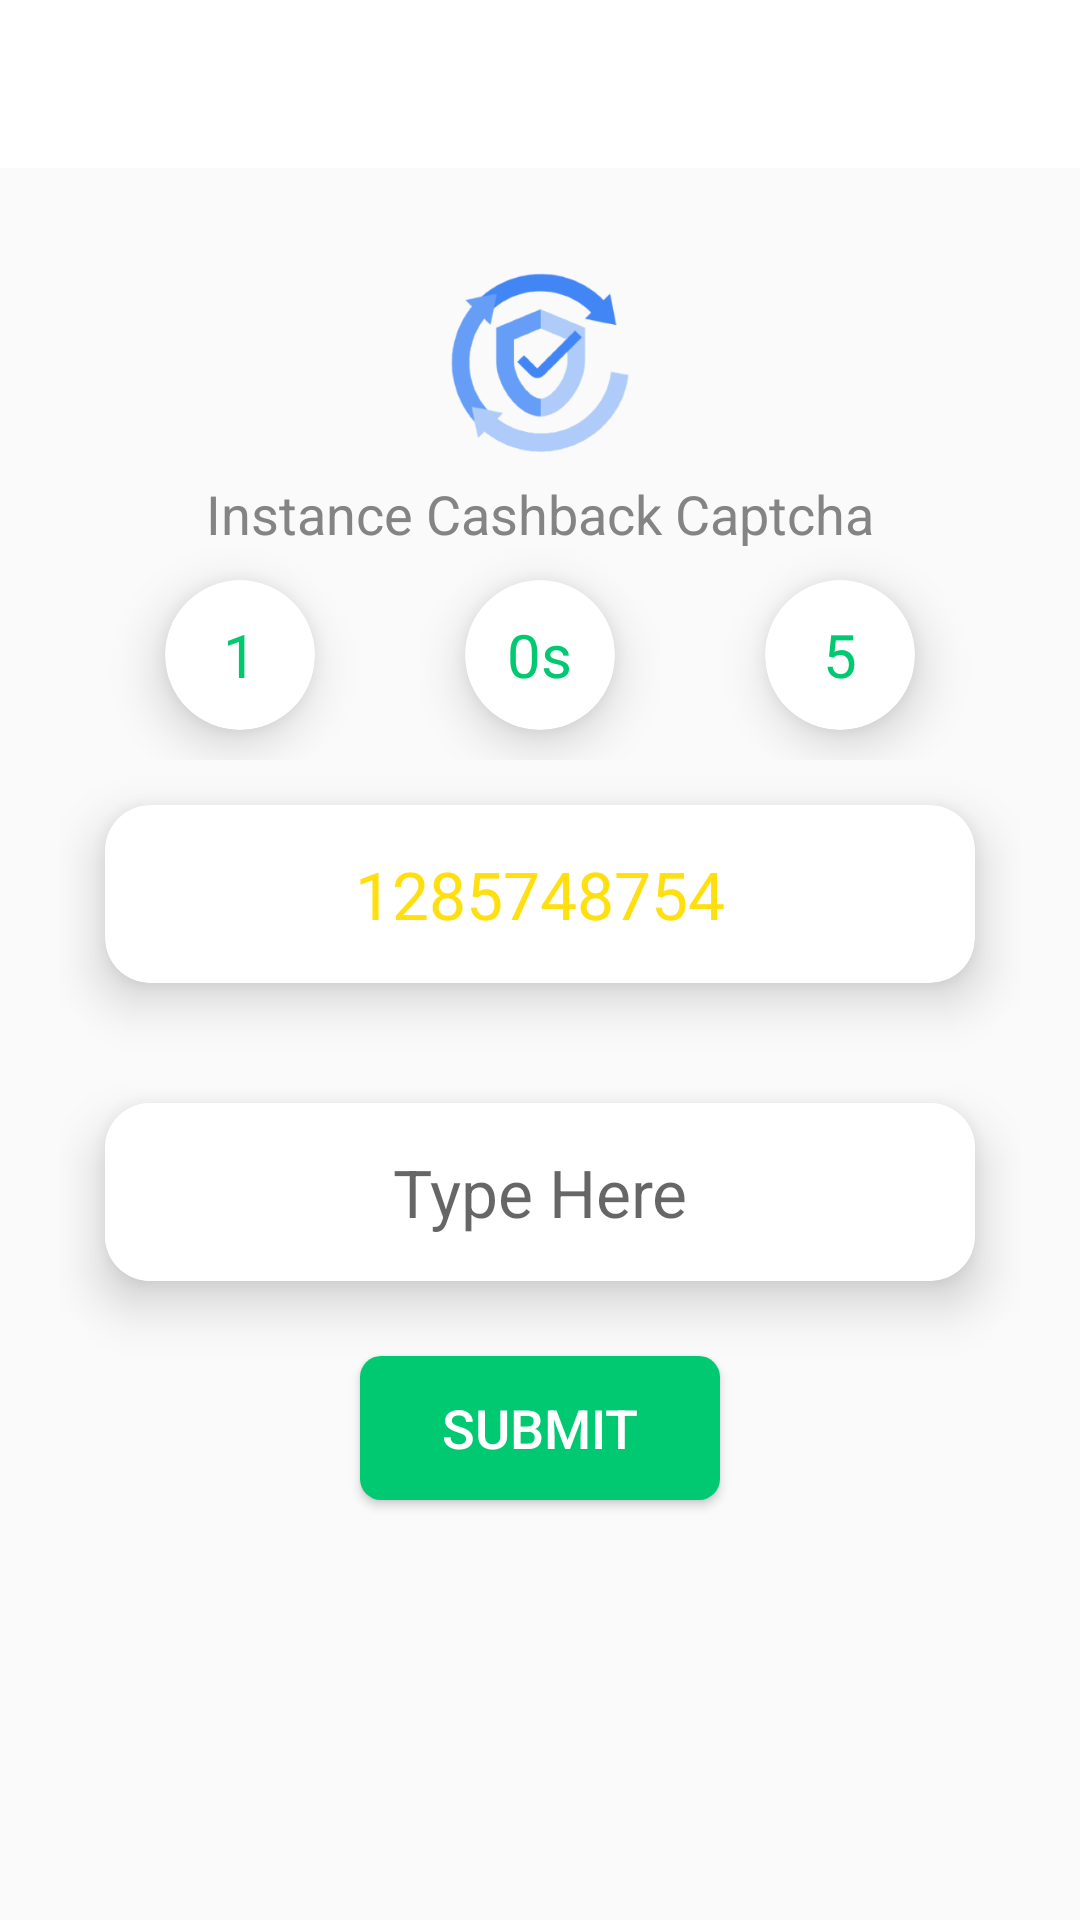

Locate icon controls on the screen. Image size 1080*1920, boxes as (x1, y1, x2, y2).
captha: (451, 274, 628, 452)
